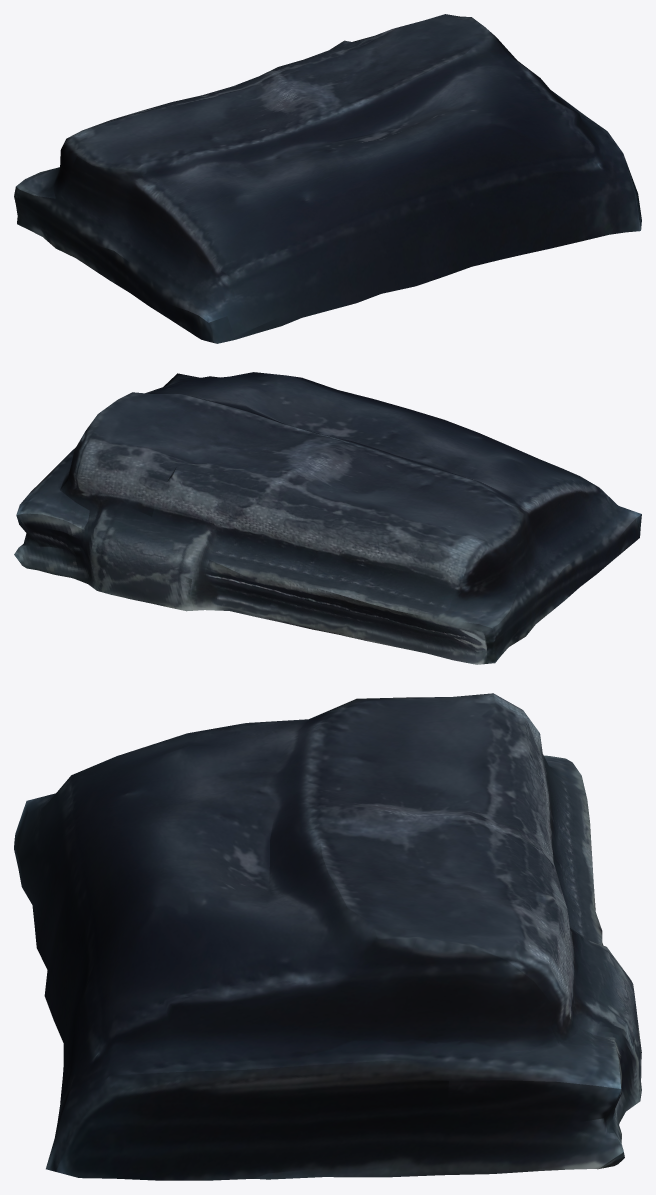
The model's file is wallet_6aee1290c409.glb.
3 renders of one model, top to bottom at view 1: azimuth 30°, elevation 25°; view 2: azimuth 150°, elevation 25°; view 3: azimuth 270°, elevation 25°, orthographic. The views are drawn at different scales.
Visible parts, largest first — view 1: Group47479; view 2: Group47479; view 3: Group47479.
Part boxes in pixels (left/top/right/bottom): Group47479: left=14, top=14, right=641, bottom=343; Group47479: left=14, top=372, right=641, bottom=664; Group47479: left=14, top=693, right=641, bottom=1180.
Size of the model in its own units: 14.94 by 3.82 by 10.8.
Materials: 2 (2 with a texture image).
